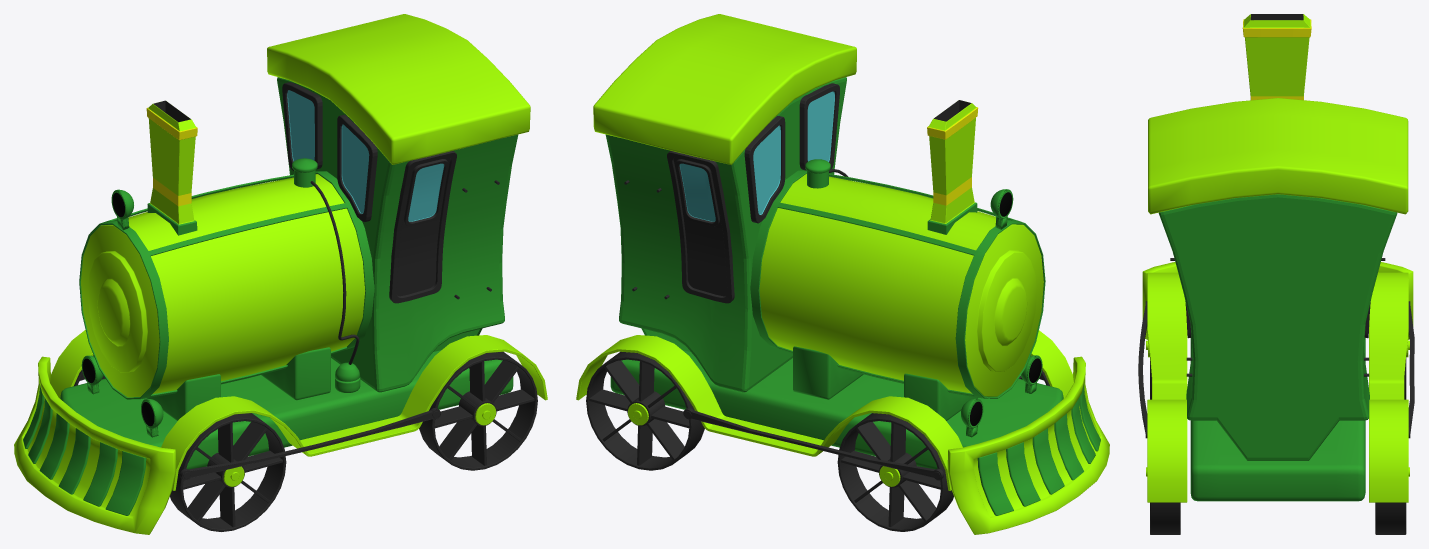
The model's file is Locomotive.FBX.
3 views of the same model, side by side, from view 1: azimuth 30°, elevation 25°; view 2: azimuth 150°, elevation 25°; view 3: azimuth 270°, elevation 25° (orthographic). The views are drawn at different scales.
Parts seen in each view (by area): view 1: Mid_cylinder, van_up, Loco_van, Locomotive_under, Locomotive, Vehicle_up, Front, Doors, Front_windows, Front_m, Mid_cylinder_under, Line003 (+9 smaller); view 2: Mid_cylinder, van_up, Loco_van, Locomotive_under, Locomotive, Vehicle_up, Front, Doors, Front_windows, Front_m, Mid_cylinder_under, Line005 (+7 smaller); view 3: Loco_van, van_up, Vehicle_up, Locomotive_under, Locomotive, Vehicle4, Front, Circle005, Circle006, Circle010.
Boxes of the visible parts, bbox=[...] form: Mid_cylinder: bbox=[81, 174, 365, 397]; van_up: bbox=[267, 14, 530, 164]; Loco_van: bbox=[277, 77, 518, 392]; Locomotive_under: bbox=[60, 350, 513, 469]; Locomotive: bbox=[79, 100, 374, 399]; Vehicle_up: bbox=[50, 330, 547, 490]; Front: bbox=[14, 356, 176, 534]; Doors: bbox=[389, 151, 456, 303]; Front_windows: bbox=[282, 82, 377, 221]; Front_m: bbox=[23, 384, 146, 515]; Mid_cylinder_under: bbox=[146, 347, 330, 420]; Line003: bbox=[434, 360, 534, 465]; Mid_cylinder: bbox=[759, 173, 1043, 396]; van_up: bbox=[593, 14, 856, 164]; Loco_van: bbox=[605, 77, 846, 392]; Locomotive_under: bbox=[610, 350, 1063, 469]; Locomotive: bbox=[750, 100, 1045, 398]; Vehicle_up: bbox=[576, 330, 1073, 490]; Front: bbox=[947, 356, 1109, 534]; Doors: bbox=[667, 151, 734, 303]; Front_windows: bbox=[744, 83, 839, 223]; Front_m: bbox=[977, 384, 1100, 515]; Mid_cylinder_under: bbox=[793, 346, 977, 420]; Line005: bbox=[589, 360, 689, 465]; Loco_van: bbox=[1158, 194, 1397, 460]; van_up: bbox=[1148, 98, 1408, 214]; Vehicle_up: bbox=[1147, 272, 1408, 502]; Locomotive_under: bbox=[1190, 337, 1365, 501]; Locomotive: bbox=[1242, 14, 1311, 100]; Vehicle4: bbox=[1375, 502, 1406, 534]; Front: bbox=[1142, 262, 1413, 339]; Circle005: bbox=[1150, 502, 1180, 534]; Circle006: bbox=[1138, 301, 1147, 438]; Circle010: bbox=[1408, 301, 1414, 438].
Size of what is drawn, in the model's own units: 66.93 by 54.43 by 35.37.
